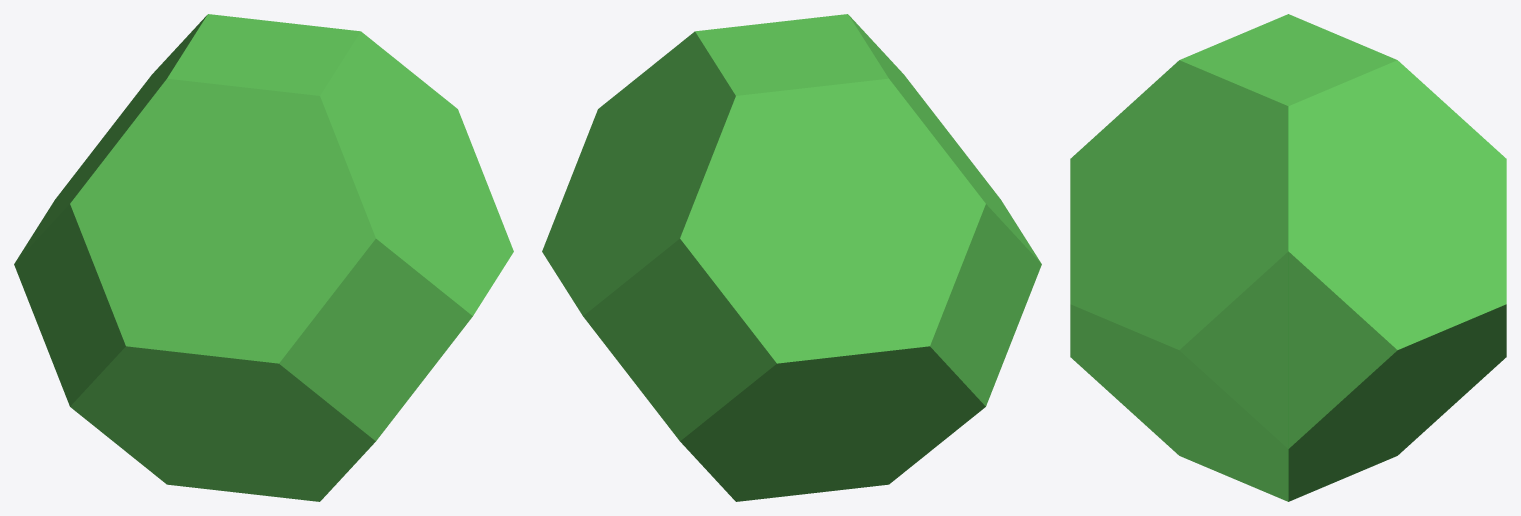
The model's file is fractaltruncatedoctahedron0.glb.
The picture shows the model from 3 angles, left to right: view 1: azimuth 30°, elevation 25°; view 2: azimuth 150°, elevation 25°; view 3: azimuth 270°, elevation 25°; orthographic projection. The views are drawn at different scales.
Bounding box in the file's own units: 11.29 × 11.29 × 11.29.
